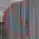No parking: (3, 2, 37, 38)
